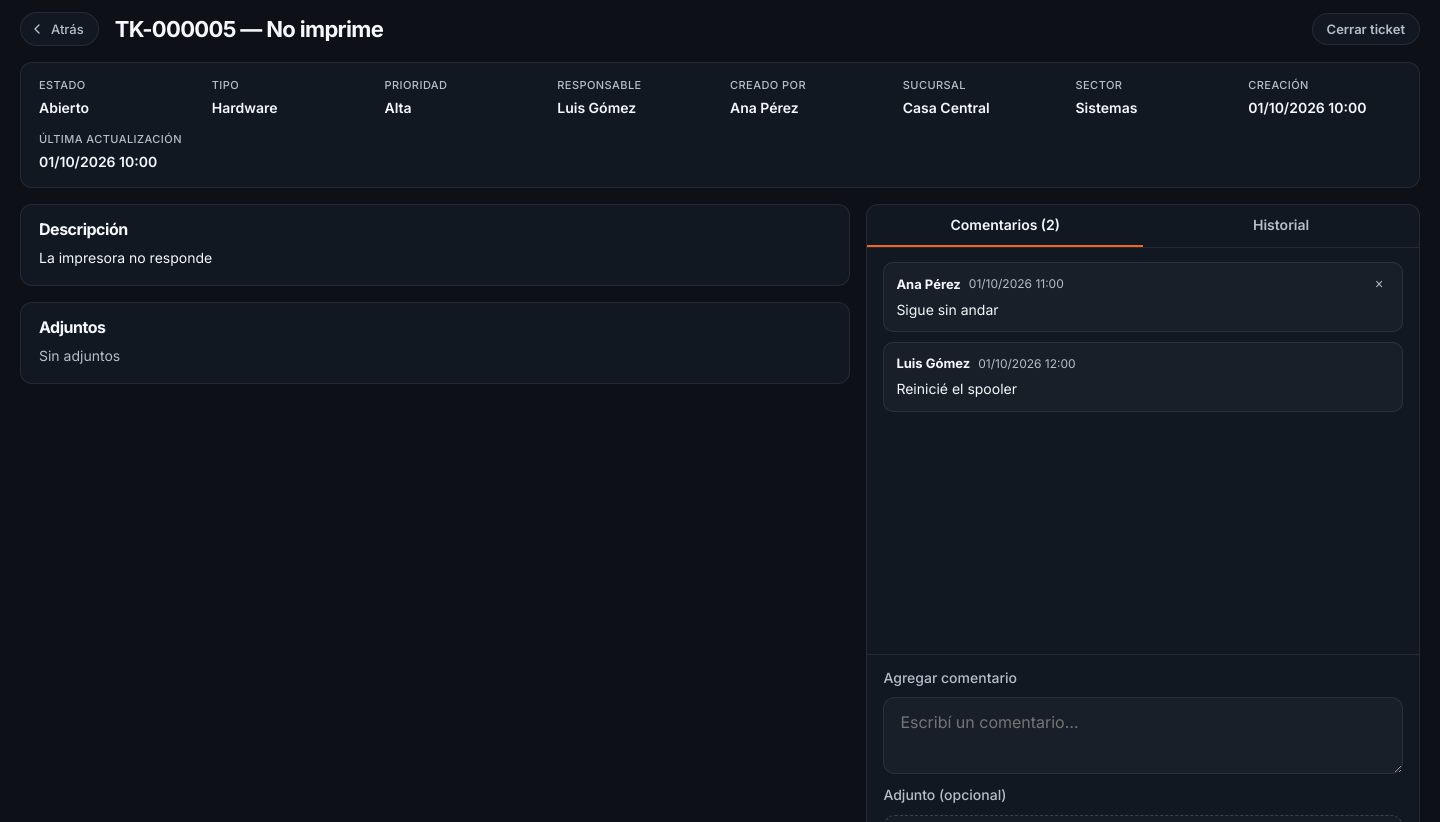
Test: DetalleTicket › el historial está en otra pestaña del panel de actividad
Check: the text "Reinicié el spooler" is shown, box x1=896 y1=380 x2=1017 y2=397
Check: the text "Ticket creado" is not shown
Click the tab "Historial": (1281, 226) x1=1143 y1=205 x2=1419 y2=247
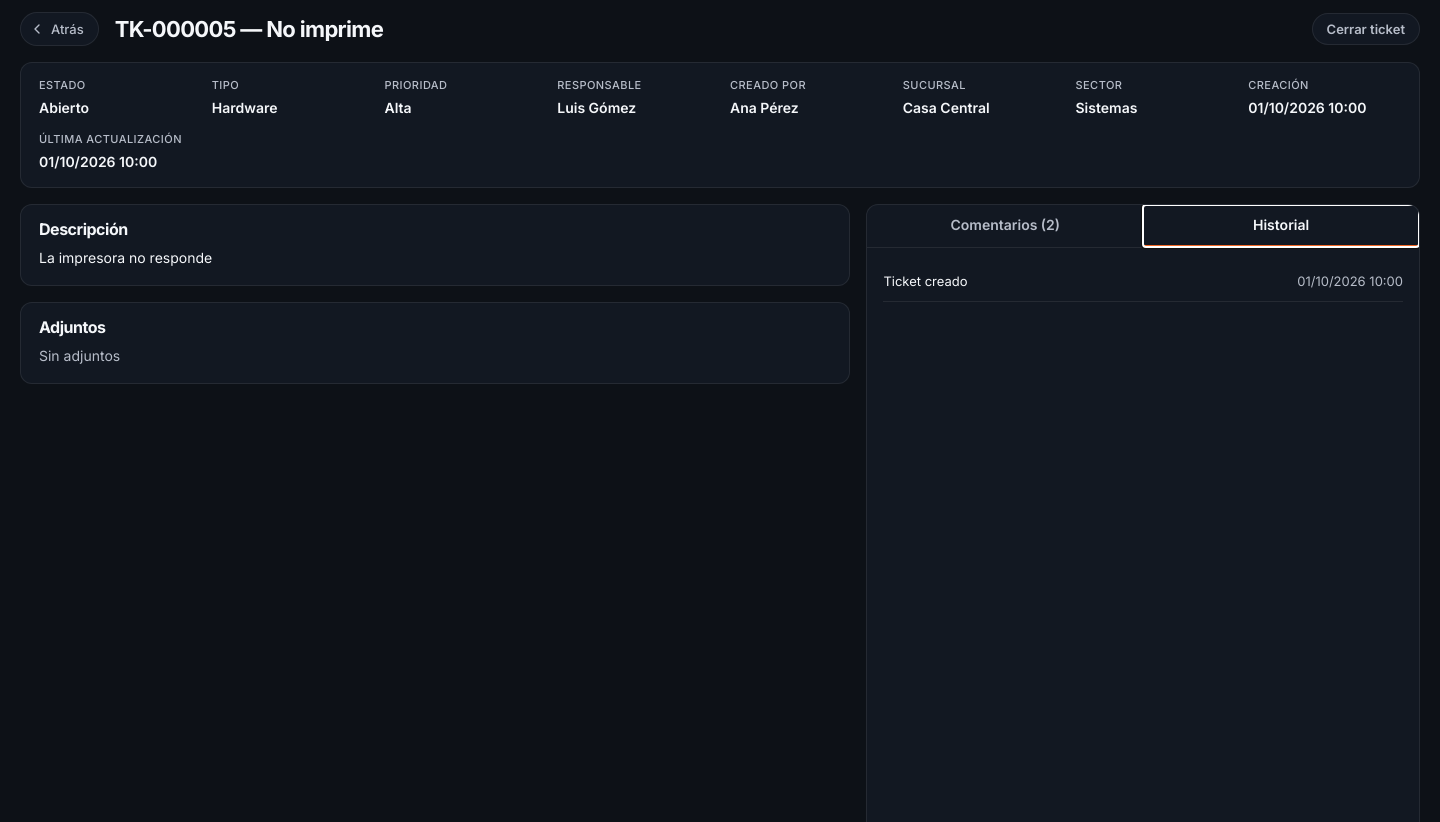
Check: the text "Ticket creado" is shown, box x1=883 y1=271 x2=968 y2=292
Check: the text "Reinicié el spooler" is gone
